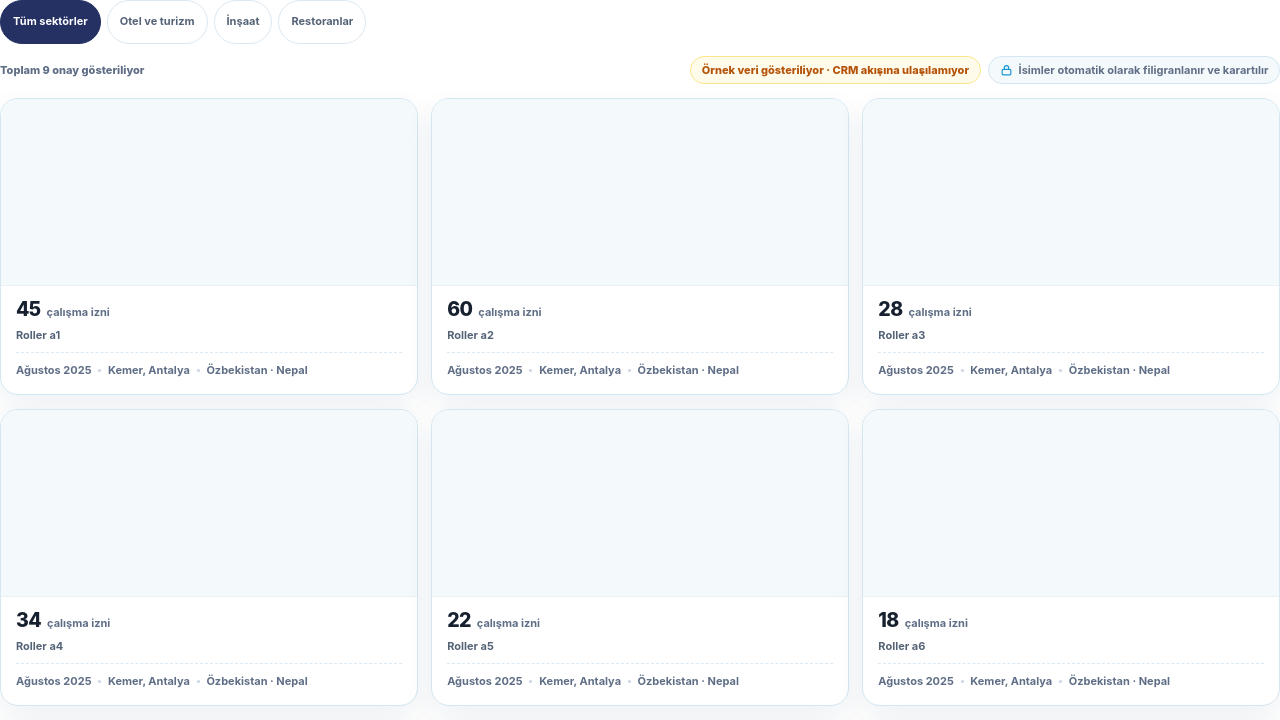
it: ApprovalsWall (parity pass — design #cases, W148) › filters by sector: result line, slider title, no phone list or toggle at ≤ 3 cards
Click the radio button labelled "Otel ve turizm": [157, 22] box x1=107 y1=0 x2=208 y2=44
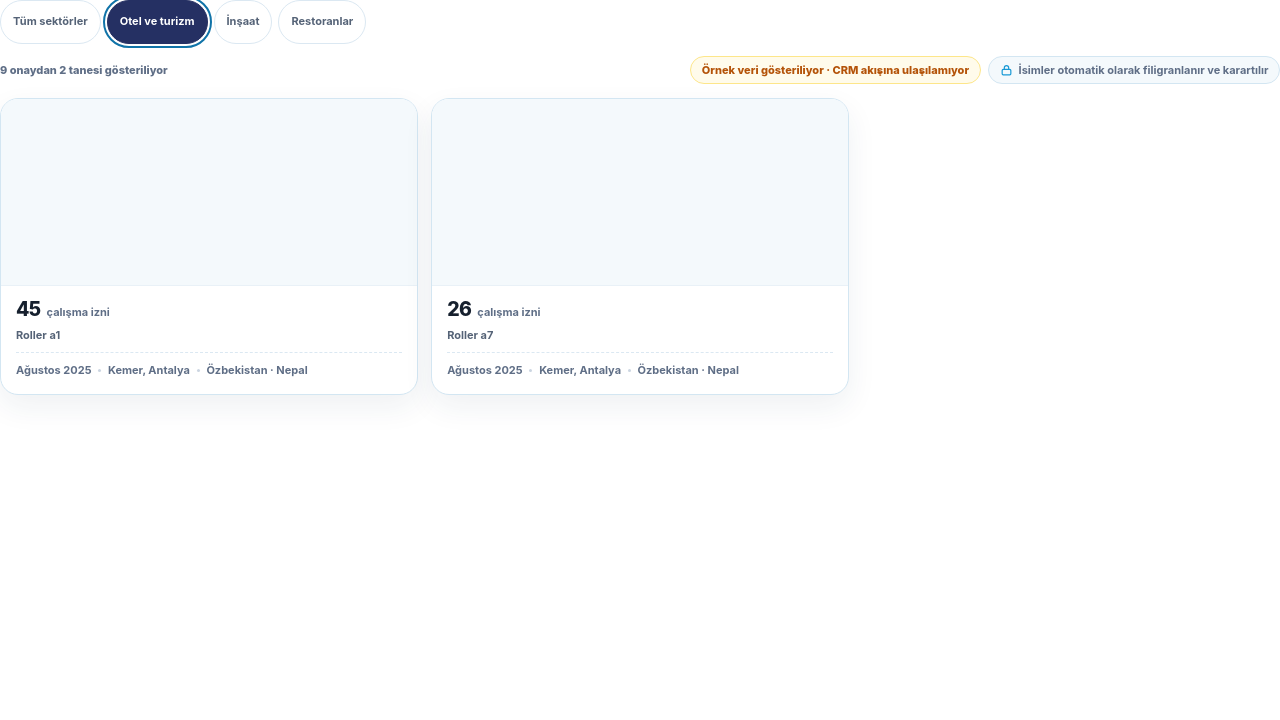
Result: the text with test id "stories-result" reads "9 onaydan 2 tanesi gösteriliyor" at x1=0 y1=62 x2=168 y2=76
